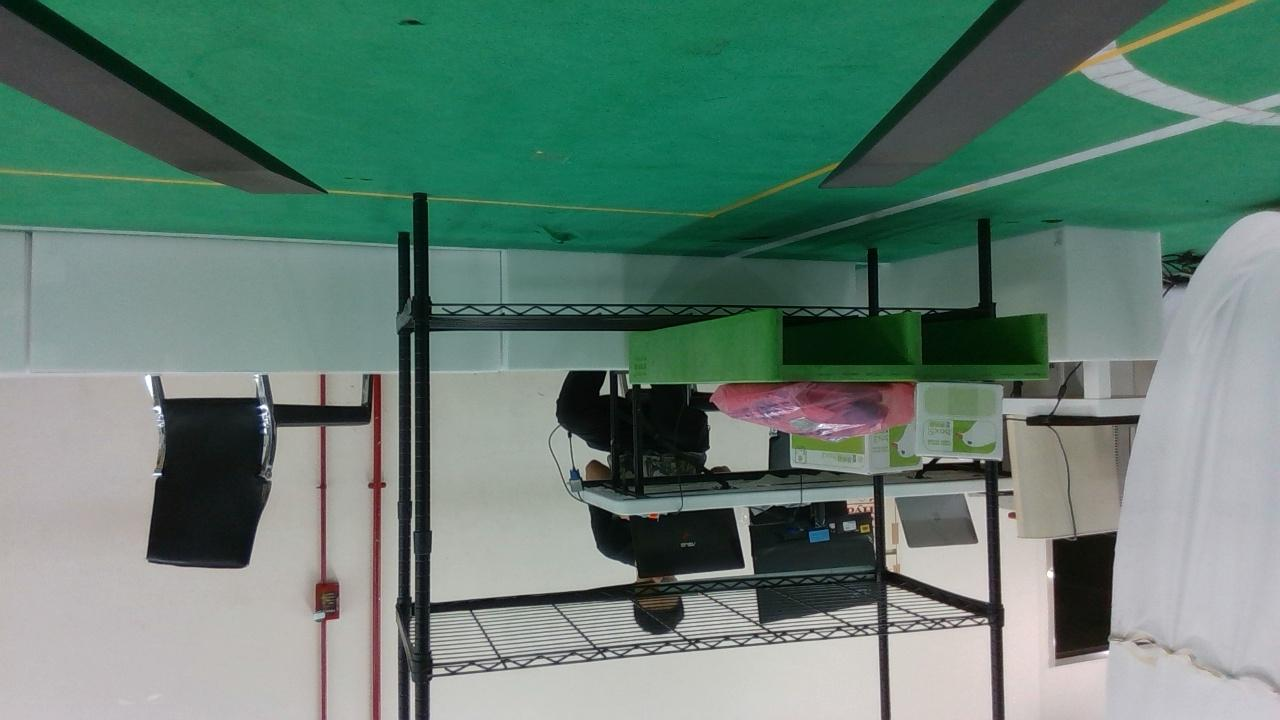Pallet: (761, 308, 1051, 383)
